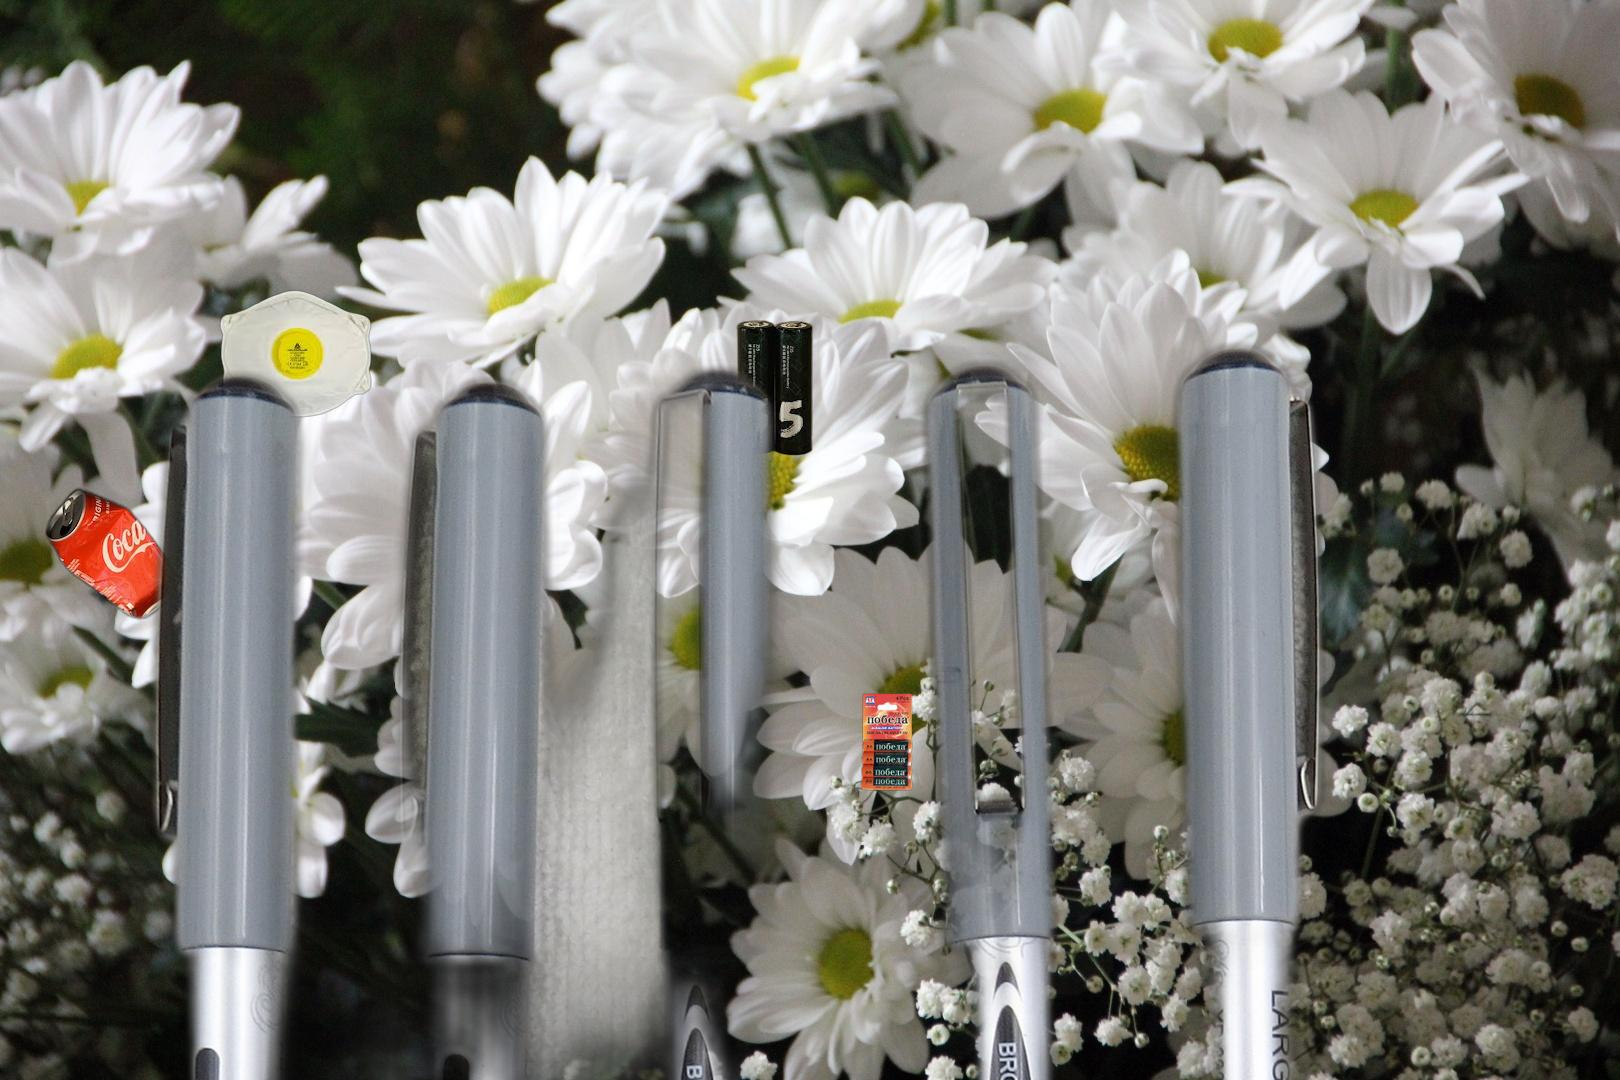battery: (858, 662, 964, 793), (735, 318, 816, 458)
metal-cans: (41, 483, 187, 626)
penholder: (137, 328, 1336, 1080)
trash: (217, 287, 374, 419)
